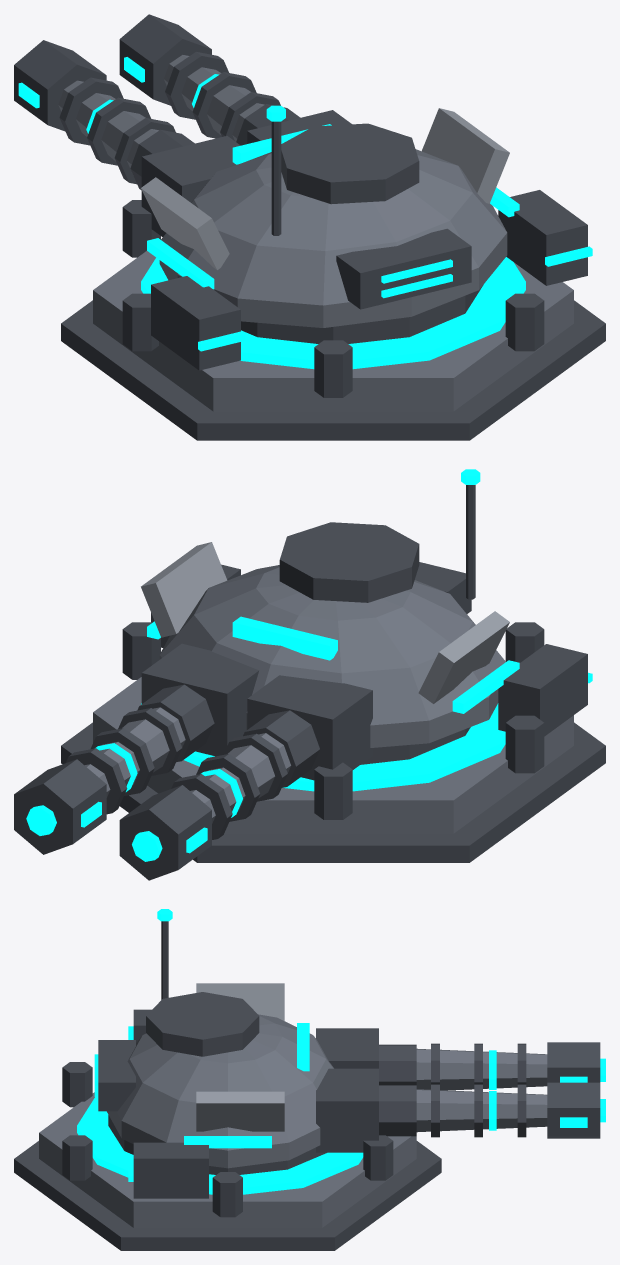
Rendered from turret_lvl3.fbx.
3 renders of one model, top to bottom at view 1: azimuth 30°, elevation 25°; view 2: azimuth 150°, elevation 25°; view 3: azimuth 270°, elevation 25°, orthographic. The views are drawn at different scales.
Parts seen in each view (by area): view 1: Dome_05, Base_01, BaseSkirt_02, Cupola_49, Neon_BaseRing_03, BackVent_32, SaddleBag_45, SaddleBag_47, Pivot_04, ArmorPlate_36, MuzzleBrake_25, MuzzleBrake_14 (+22 smaller); view 2: Dome_05, Base_01, BaseSkirt_02, Cupola_49, BarrelMount_07, BarrelMount_18, SaddleBag_45, MuzzleBrake_14, MuzzleBrake_25, Neon_BaseRing_03, ArmorPlate_36, ArmorPlate_35 (+21 smaller); view 3: Dome_05, Base_01, BaseSkirt_02, Cupola_49, BarrelMount_18, Neon_BaseRing_03, SaddleBag_47, BarrelTube_20, BarrelTube_09, ArmorPlate_36, MuzzleBrake_25, BackVent_32 (+16 smaller).
Part boxes in pixels (x1,y1,x2,y2): Dome_05: (159, 149, 507, 327); Base_01: (93, 251, 573, 411); BaseSkirt_02: (61, 300, 605, 440); Cupola_49: (281, 123, 419, 204); Neon_BaseRing_03: (141, 257, 525, 369); BackVent_32: (336, 228, 471, 309); SaddleBag_45: (151, 276, 240, 370); SaddleBag_47: (498, 190, 587, 285); Pivot_04: (241, 285, 483, 343); ArmorPlate_36: (422, 108, 509, 203); MuzzleBrake_25: (119, 14, 211, 105); MuzzleBrake_14: (14, 40, 106, 131); Dome_05: (159, 565, 505, 747); Base_01: (93, 677, 573, 833); BaseSkirt_02: (61, 722, 605, 862); Cupola_49: (279, 522, 419, 602); BarrelMount_07: (247, 675, 372, 780); BarrelMount_18: (141, 643, 259, 756); SaddleBag_45: (498, 644, 587, 736); MuzzleBrake_14: (119, 785, 211, 880); MuzzleBrake_25: (14, 759, 106, 854); Neon_BaseRing_03: (141, 703, 505, 791); ArmorPlate_36: (141, 542, 227, 637); ArmorPlate_35: (418, 611, 509, 703); Dome_05: (107, 1014, 333, 1168); Base_01: (39, 1092, 416, 1227); BaseSkirt_02: (14, 1141, 441, 1250); Cupola_49: (146, 992, 259, 1056); BarrelMount_18: (316, 1068, 378, 1152); Neon_BaseRing_03: (77, 1097, 363, 1194); SaddleBag_47: (133, 1142, 208, 1198); BarrelTube_20: (416, 1089, 547, 1132); BarrelTube_09: (416, 1048, 547, 1090); ArmorPlate_36: (196, 1091, 284, 1131); MuzzleBrake_25: (547, 1082, 600, 1138); BackVent_32: (98, 1040, 135, 1111).
Size of the model in its own units: 312 by 206 by 494.
